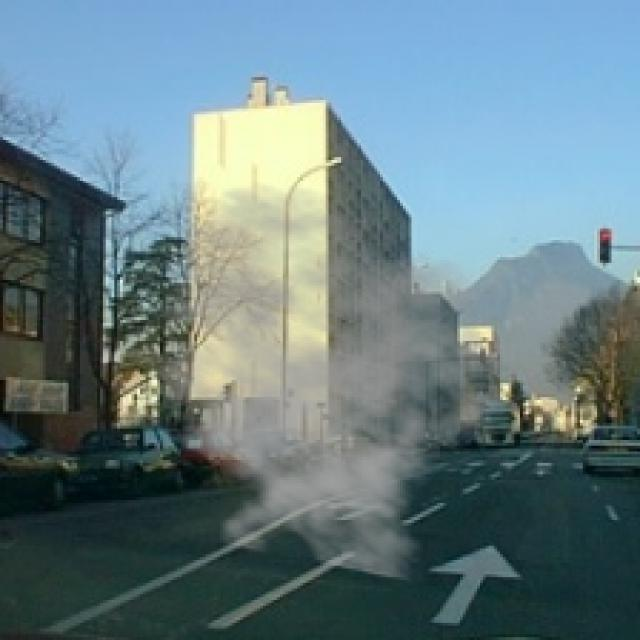smoke: (111, 180, 520, 583)
